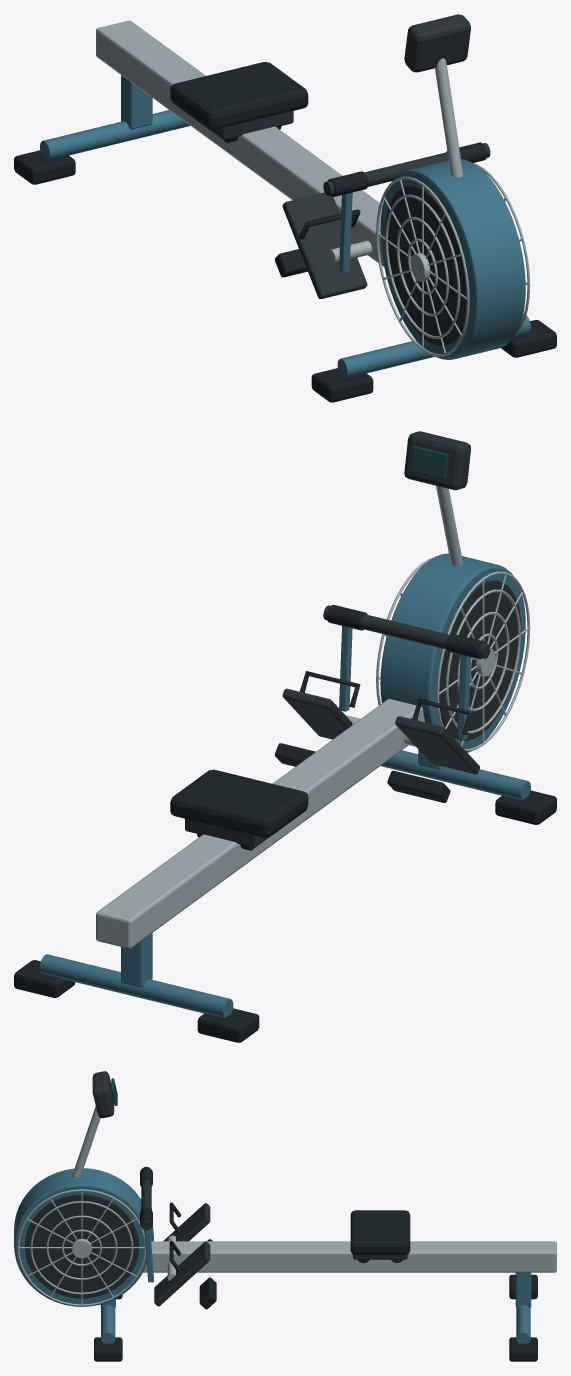
File: city-rowing-ergometer.glb
The picture shows the model from 3 angles, top to bottom: view 1: azimuth 30°, elevation 25°; view 2: azimuth 150°, elevation 25°; view 3: azimuth 270°, elevation 25°; orthographic projection. The views are drawn at different scales.
Visible parts, largest first — view 1: Assembly | Muted blue enamel, Assembly | Satin tubular steel, Assembly | Dark molded body, Assembly | Matte rubber and pads; view 2: Assembly | Satin tubular steel, Assembly | Muted blue enamel, Assembly | Dark molded body, Assembly | Matte rubber and pads, Assembly | Opaque inactive display; view 3: Assembly | Satin tubular steel, Assembly | Dark molded body, Assembly | Muted blue enamel, Assembly | Matte rubber and pads.
Boxes of the visible parts, x1,y1,x2,y2 form: Assembly | Muted blue enamel: (40,75,530,377); Assembly | Satin tubular steel: (96,20,530,356); Assembly | Dark molded body: (209,14,490,345); Assembly | Matte rubber and pads: (14,62,556,402); Assembly | Satin tubular steel: (96,486,530,948); Assembly | Muted blue enamel: (40,553,530,1017); Assembly | Dark molded body: (185,431,521,847); Assembly | Matte rubber and pads: (14,605,556,1042); Assembly | Opaque inactive display: (410,446,448,479); Assembly | Satin tubular steel: (17,1106,556,1306); Assembly | Dark molded body: (24,1071,407,1306); Assembly | Muted blue enamel: (14,1168,531,1343); Assembly | Matte rubber and pads: (94,1167,537,1361).
Size of the model in its own units: 0.77 by 1.13 by 2.27.
